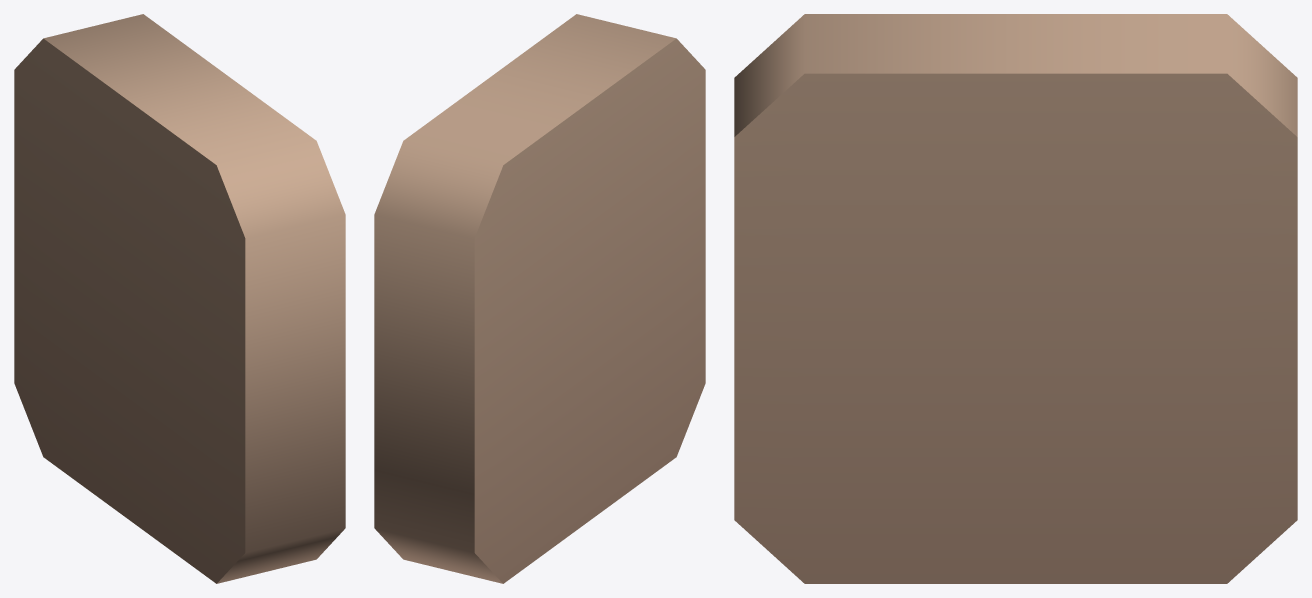
The model's file is brick-square-thin (%wall).glb.
3 views of the same model, side by side, from view 1: azimuth 30°, elevation 25°; view 2: azimuth 150°, elevation 25°; view 3: azimuth 270°, elevation 25° (orthographic). The views are drawn at different scales.
Visible parts, largest first — view 1: brick-square-thin (%wall); view 2: brick-square-thin (%wall); view 3: brick-square-thin (%wall).
Part boxes in pixels (box(x1,y1,x2,y2)): brick-square-thin (%wall): box(14, 14, 345, 583); brick-square-thin (%wall): box(374, 14, 705, 583); brick-square-thin (%wall): box(734, 14, 1297, 583).
Size of the model in its own units: 0.05 by 0.2 by 0.2.
